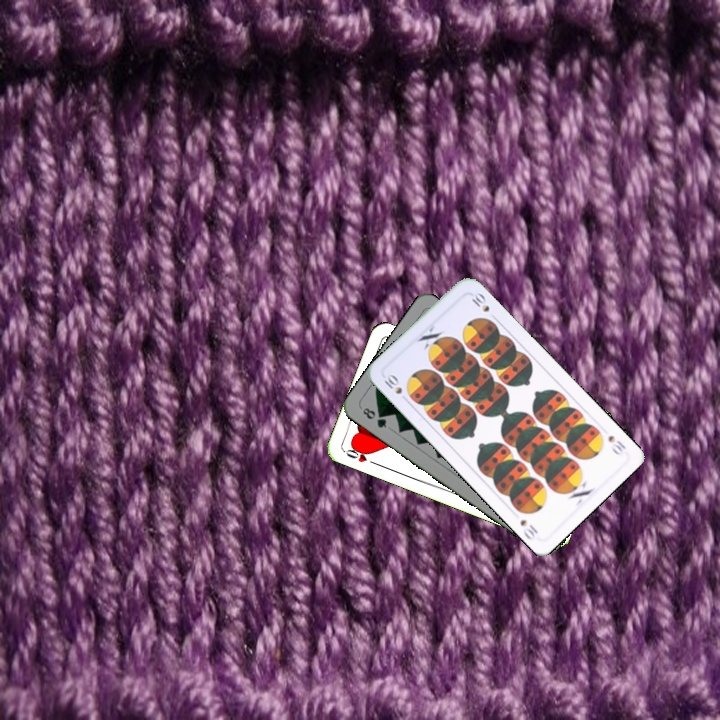G8: (357, 403, 389, 431)
HO: (340, 442, 379, 467)
S10: (380, 370, 411, 405), (604, 431, 628, 458)
